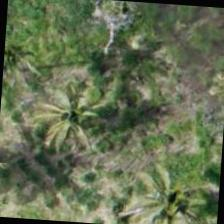Kelapa_Sawit: (16, 72, 111, 168), (123, 160, 219, 223)
